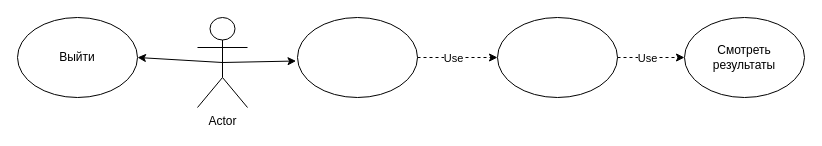
The diagram is 822 pixels wide and 146 high, and some of its shapes have lost their labels. Each missing label, with the box of its shape:
Начать сезон: (296, 16, 418, 98)
Указать температуру: (496, 16, 618, 98)
